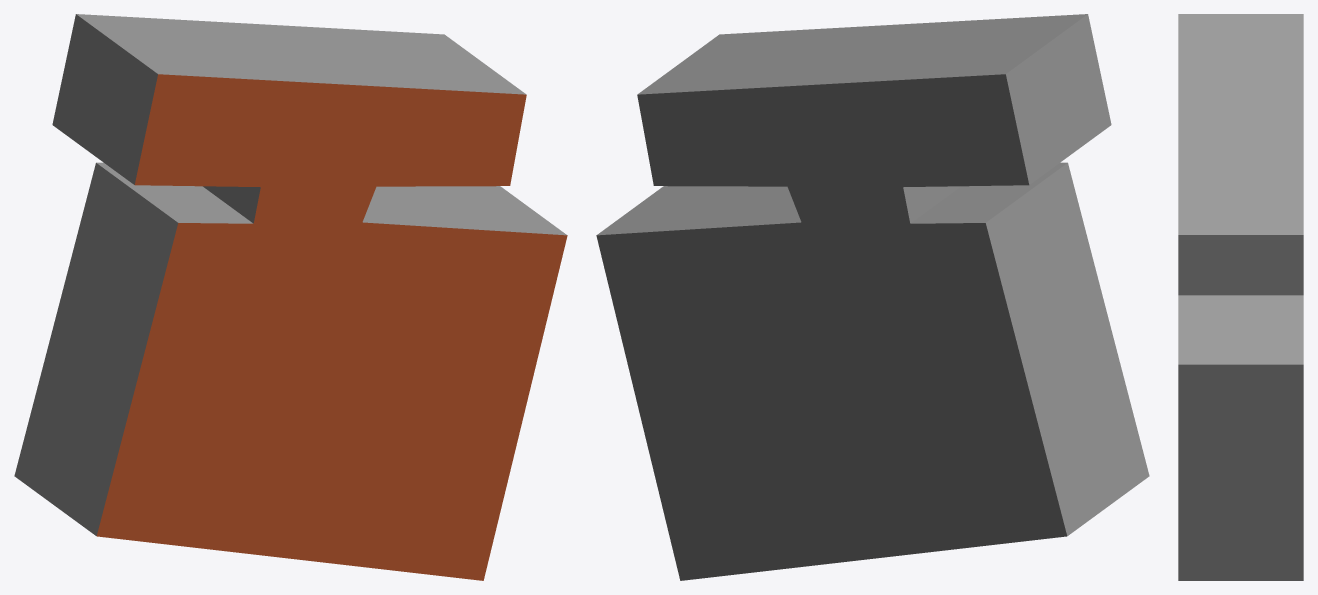
The model's file is construction_1969_assumed_A_Casa_h6m.obj.
The picture shows the model from 3 angles, left to right: view 1: azimuth 30°, elevation 25°; view 2: azimuth 150°, elevation 25°; view 3: azimuth 270°, elevation 25°; orthographic projection. The views are drawn at different scales.
Visible parts, largest first — view 1: construction_1969_assumed_A_Casa; view 2: construction_1969_assumed_A_Casa; view 3: construction_1969_assumed_A_Casa.
Part boxes in pixels (x1,y1,x2,y2): construction_1969_assumed_A_Casa: [14, 14, 567, 580]; construction_1969_assumed_A_Casa: [596, 14, 1149, 580]; construction_1969_assumed_A_Casa: [1178, 14, 1303, 580].
Size of the model in its own units: 19.83 by 23.59 by 6.
